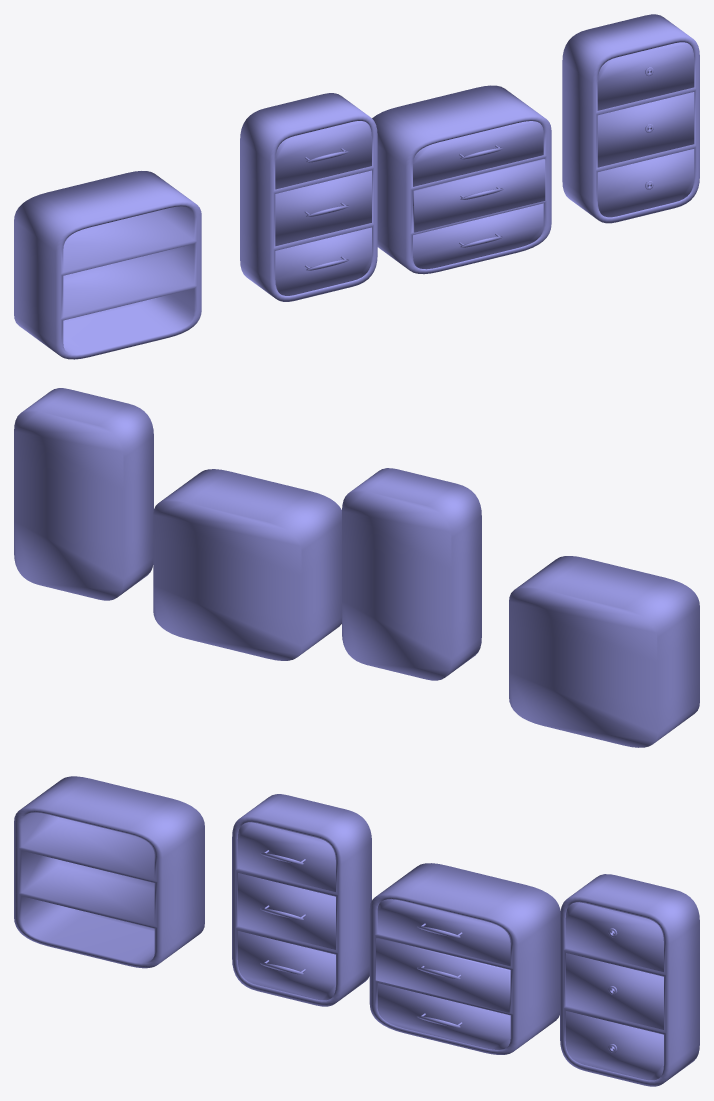
3 renders of one model, top to bottom at view 1: azimuth 30°, elevation 25°; view 2: azimuth 150°, elevation 25°; view 3: azimuth 330°, elevation 25°, orthographic.
Visible parts, largest first — view 1: Box056, Box027, Box013, Box052, Box029, Box016, Box054, Box028, Box030, Box014, Box019, Box055 (+1 smaller); view 2: Box056, Box027, Box052, Box013; view 3: Box056, Box027, Box013, Box052, Box029, Box016, Box054, Box028, Box030, Box014, Box019, Box055 (+1 smaller).
Part boxes in pixels (bbox=[...]): Box056: bbox=[14, 171, 201, 359]; Box027: bbox=[372, 85, 551, 274]; Box013: bbox=[562, 14, 699, 223]; Box052: bbox=[240, 93, 377, 301]; Box029: bbox=[413, 158, 545, 232]; Box016: bbox=[597, 92, 694, 167]; Box054: bbox=[275, 170, 371, 246]; Box028: bbox=[413, 121, 543, 186]; Box030: bbox=[413, 203, 543, 269]; Box014: bbox=[597, 42, 694, 110]; Box019: bbox=[597, 149, 694, 217]; Box055: bbox=[275, 227, 371, 295]; Box056: bbox=[509, 556, 699, 747]; Box027: bbox=[153, 469, 341, 660]; Box052: bbox=[342, 468, 481, 680]; Box013: bbox=[14, 388, 153, 600]; Box056: bbox=[14, 776, 204, 968]; Box027: bbox=[369, 863, 560, 1054]; Box013: bbox=[560, 874, 699, 1086]; Box052: bbox=[232, 794, 371, 1006]; Box029: bbox=[376, 937, 510, 1012]; Box016: bbox=[566, 953, 663, 1029]; Box054: bbox=[238, 873, 335, 949]; Box028: bbox=[377, 899, 510, 966]; Box030: bbox=[377, 983, 510, 1049]; Box014: bbox=[565, 902, 663, 971]; Box019: bbox=[565, 1011, 663, 1080]; Box055: bbox=[237, 931, 335, 1000].
Bounding box in the file's own units: 299 × 78.49 × 37.35.
